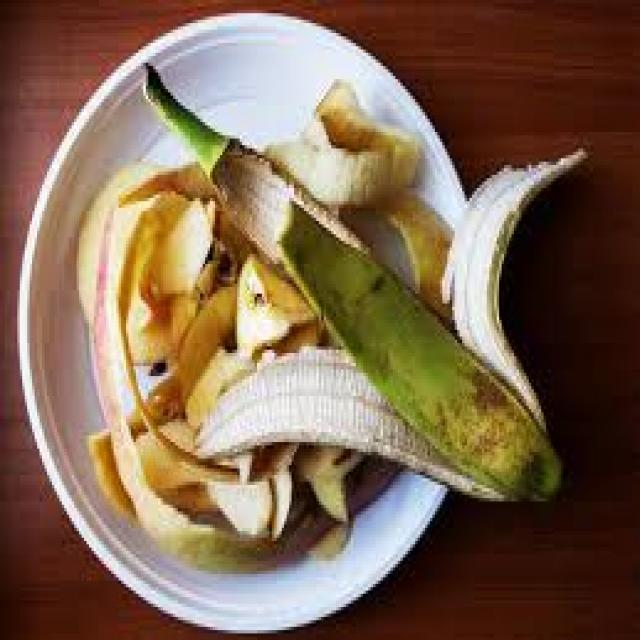Wet: (0, 4, 600, 640)
